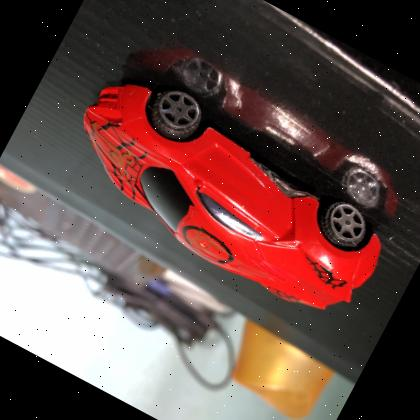Car: (37, 44, 417, 342)
